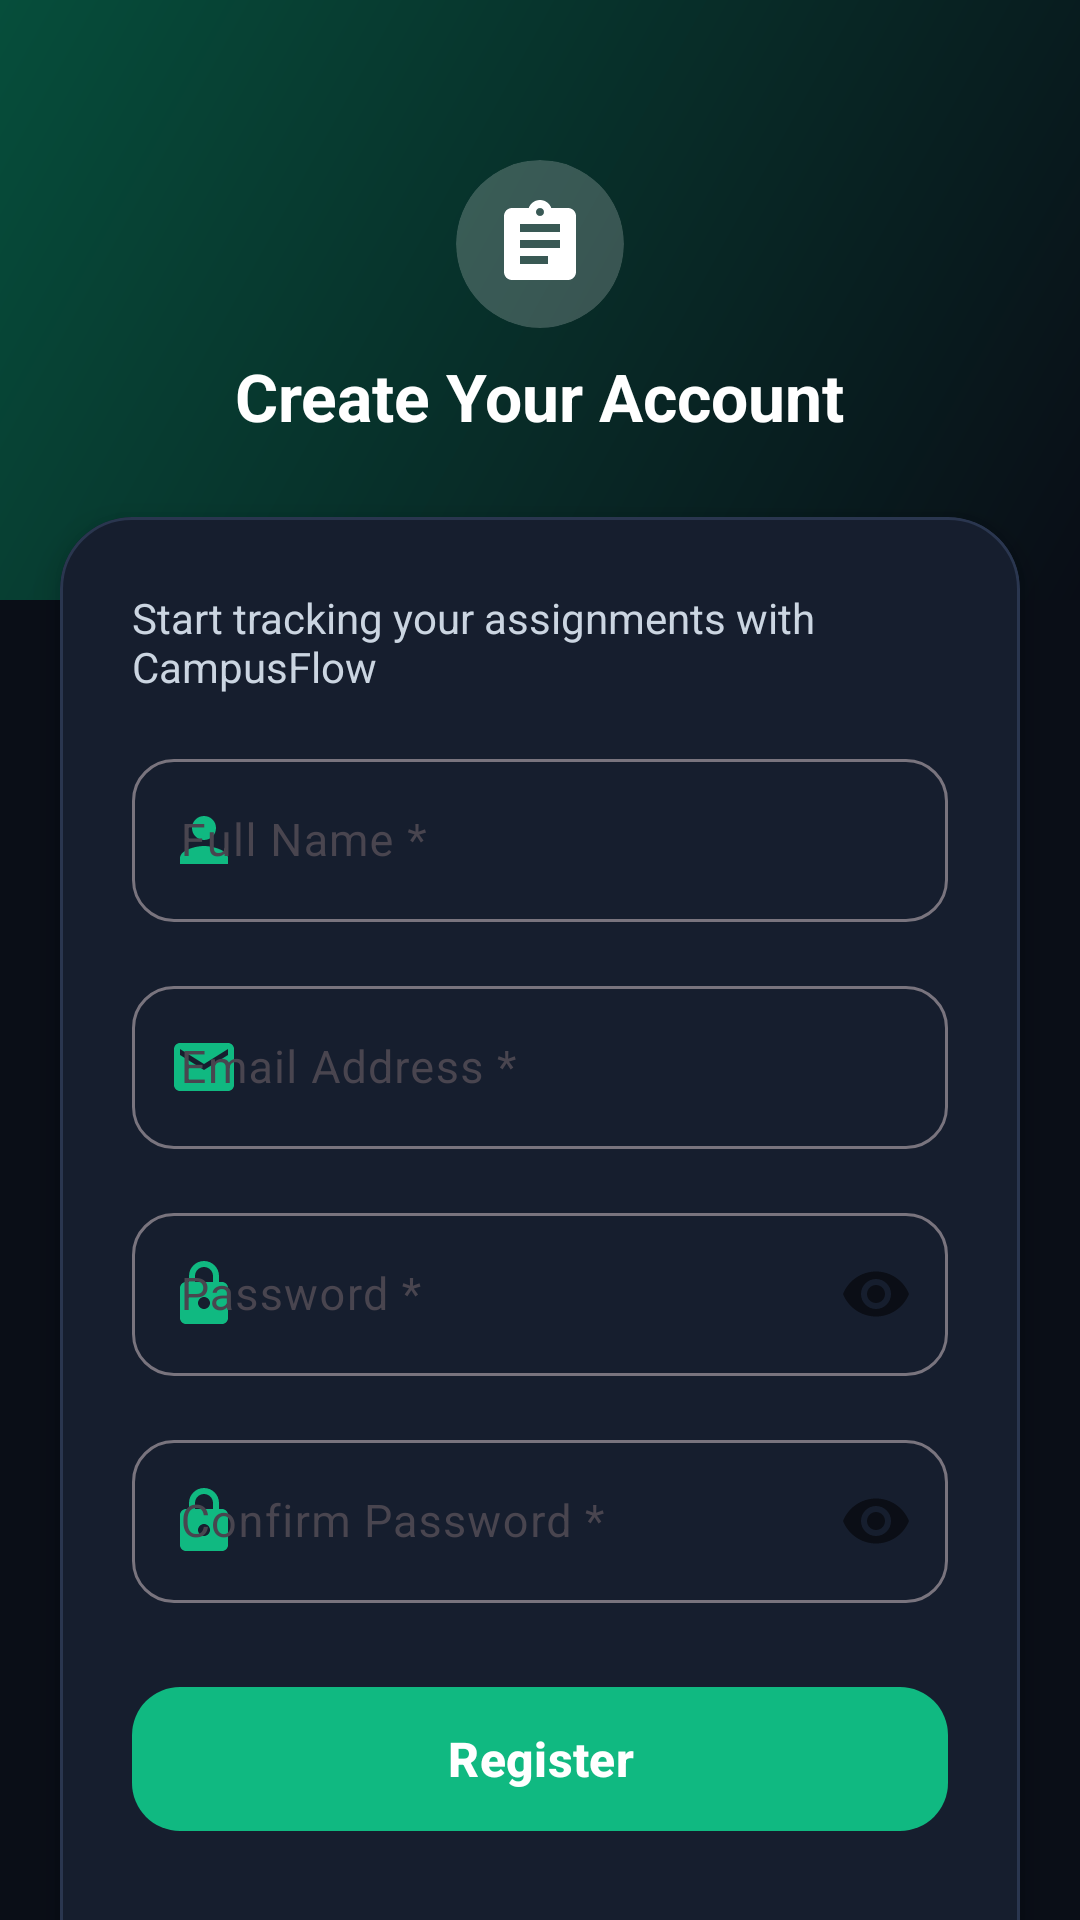

Icon bounding boxes for this 1080x1920 phone screenshot, format (x1, y1, x2, y2):
assignment: (504, 200, 576, 280)
